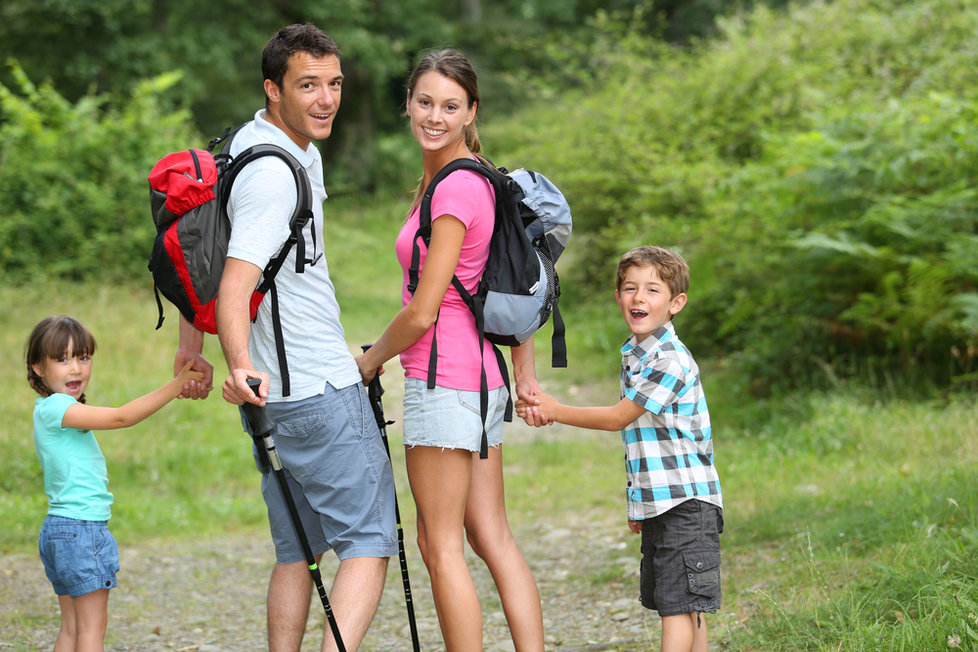Person: (150, 14, 403, 652), (367, 28, 584, 652), (516, 241, 745, 652), (16, 316, 203, 652)
